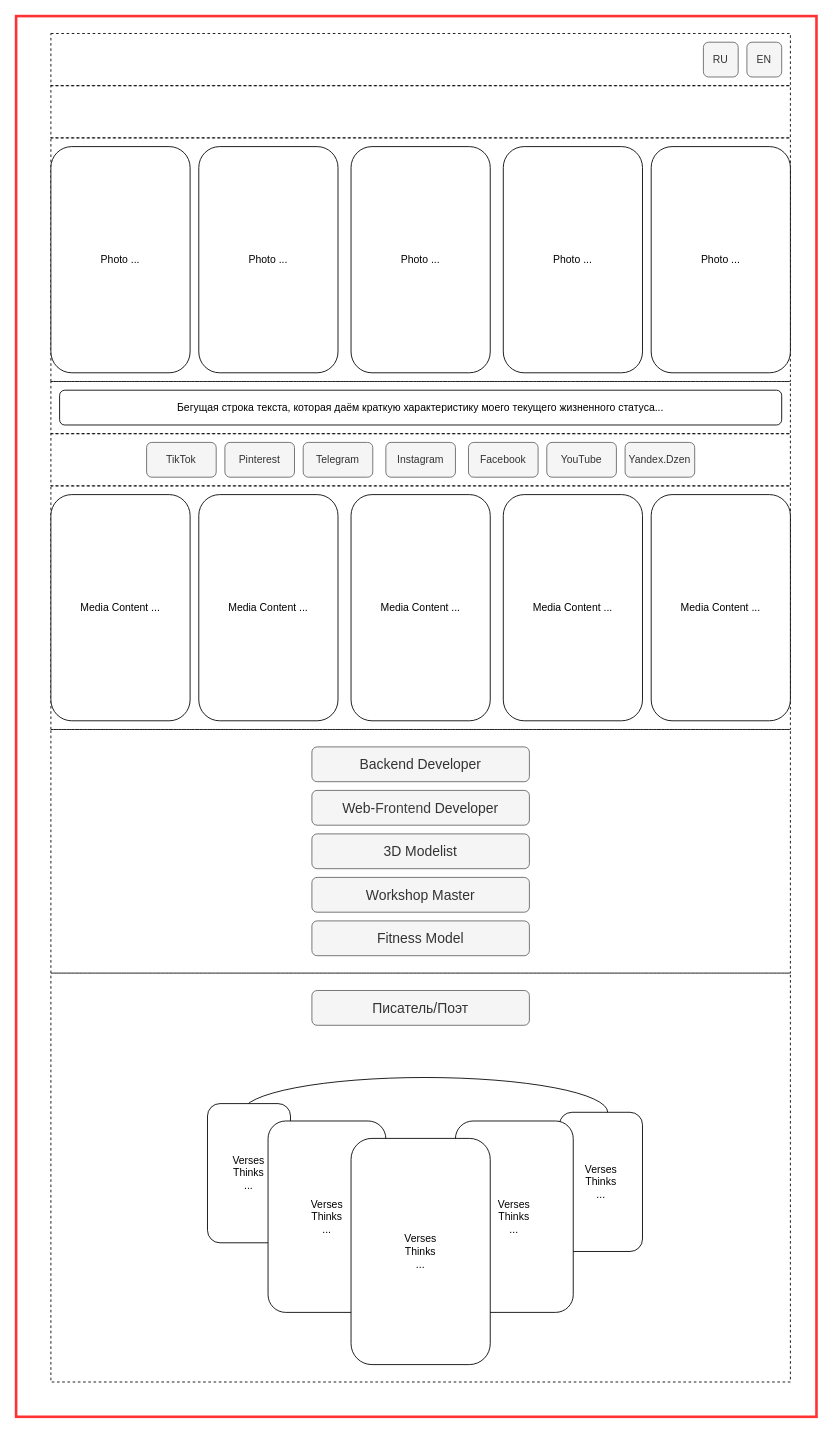
The diagram is 833 pixels wide and 1433 high, and some of its shapes have lost their labels. The shapes that lost their labels are listed below. From the top down, each one's box as (x1, y1, x2, y2) in pixels, then its label:
(50, 33, 790, 86): Web Resume
(50, 85, 790, 138): Alexey Perestoronin
